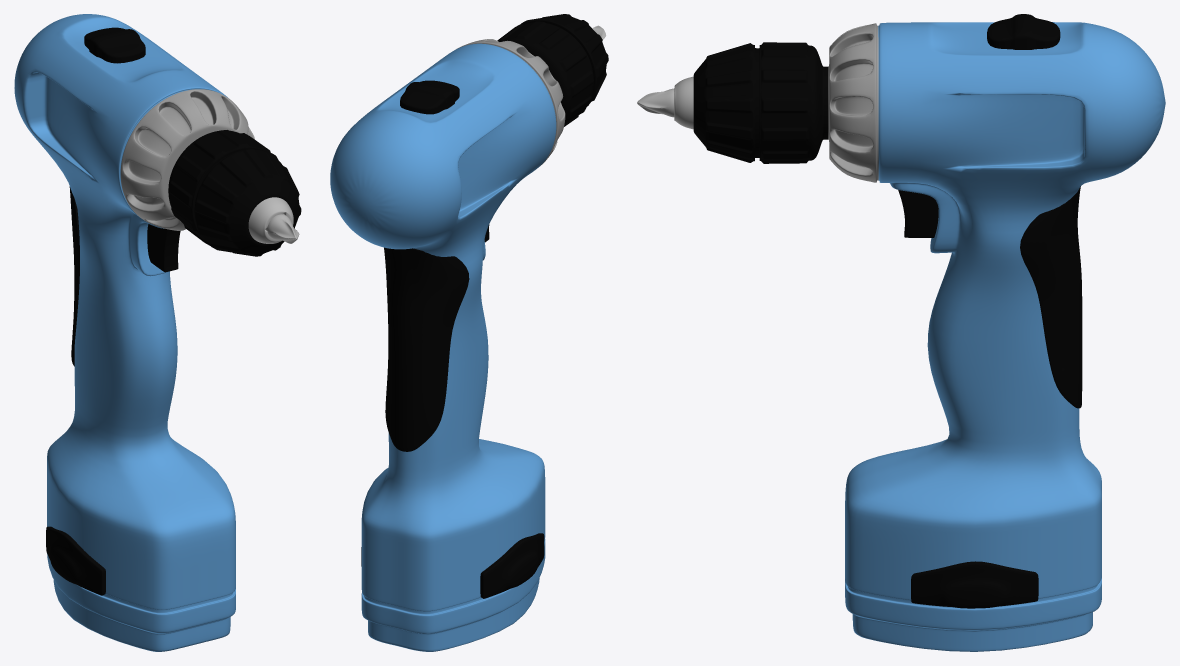
File: drill_model.fbx
The picture shows the model from 3 angles, left to right: view 1: azimuth 30°, elevation 25°; view 2: azimuth 150°, elevation 25°; view 3: azimuth 270°, elevation 25°; orthographic projection. The views are drawn at different scales.
Visible parts, largest first — view 1: drill_model, drill_trigger, drill_neddle; view 2: drill_model; view 3: drill_model, drill_trigger, drill_neddle.
Boxes of the visible parts, <box> form: drill_model: <box>14,14,301,651</box>; drill_trigger: <box>147,224,180,272</box>; drill_neddle: <box>265,214,299,243</box>; drill_model: <box>330,14,608,651</box>; drill_model: <box>674,14,1165,651</box>; drill_trigger: <box>898,190,938,237</box>; drill_neddle: <box>637,88,674,117</box>.
Size of the model in its own units: 688 by 2329 by 1875.
